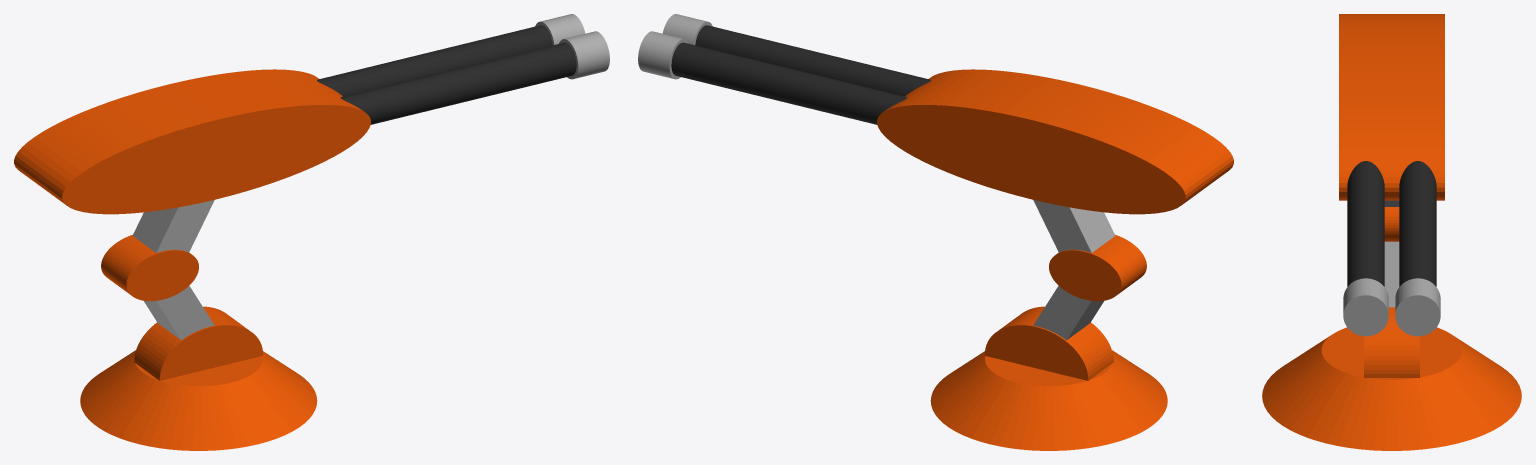
File: Turret.glb
3 views of the same model, side by side, from view 1: azimuth 30°, elevation 25°; view 2: azimuth 150°, elevation 25°; view 3: azimuth 270°, elevation 25° (orthographic). The views are drawn at different scales.
Visible parts, largest first — view 1: Cylinder.003, Cylinder, Cylinder.004, Cylinder.001, Cylinder.005, Cylinder.002, Cube.001, Cube, Cylinder.006, Cylinder.007; view 2: Cylinder.003, Cylinder, Cylinder.005, Cylinder.001, Cylinder.004, Cylinder.002, Cube.001, Cube, Cylinder.007, Cylinder.006; view 3: Cylinder, Cylinder.003, Cylinder.004, Cylinder.005, Cylinder.001, Cylinder.006, Cylinder.007, Cube, Cylinder.002.
Part boxes in pixels (x1=…): Cylinder.003: x1=14, y1=69, x2=370, y2=214; Cylinder: x1=80, y1=350, x2=317, y2=450; Cylinder.004: x1=340, y1=42, x2=576, y2=124; Cylinder.001: x1=134, y1=306, x2=262, y2=380; Cylinder.005: x1=317, y1=25, x2=552, y2=96; Cylinder.002: x1=101, y1=234, x2=198, y2=301; Cube.001: x1=132, y1=199, x2=214, y2=252; Cube: x1=144, y1=285, x2=214, y2=340; Cylinder.006: x1=559, y1=31, x2=609, y2=79; Cylinder.007: x1=535, y1=14, x2=585, y2=45; Cylinder.003: x1=877, y1=69, x2=1233, y2=214; Cylinder: x1=930, y1=350, x2=1167, y2=450; Cylinder.005: x1=671, y1=42, x2=907, y2=124; Cylinder.001: x1=985, y1=306, x2=1113, y2=380; Cylinder.004: x1=695, y1=25, x2=930, y2=96; Cylinder.002: x1=1049, y1=234, x2=1146, y2=301; Cube.001: x1=1033, y1=199, x2=1115, y2=252; Cube: x1=1033, y1=285, x2=1103, y2=340; Cylinder.007: x1=638, y1=31, x2=688, y2=79; Cylinder.006: x1=662, y1=14, x2=712, y2=45; Cylinder: x1=1262, y1=327, x2=1521, y2=450; Cylinder.003: x1=1339, y1=14, x2=1444, y2=200; Cylinder.004: x1=1347, y1=161, x2=1384, y2=286; Cylinder.005: x1=1399, y1=161, x2=1436, y2=286; Cylinder.001: x1=1364, y1=307, x2=1419, y2=378; Cylinder.006: x1=1343, y1=278, x2=1388, y2=336; Cylinder.007: x1=1395, y1=278, x2=1440, y2=336; Cube: x1=1384, y1=241, x2=1399, y2=307; Cylinder.002: x1=1384, y1=207, x2=1399, y2=241.
Size of the model in its own units: 5.35 by 2.8 by 2.
